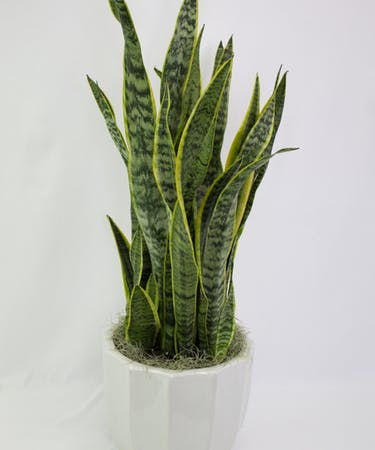plant: (77, 1, 302, 447)
